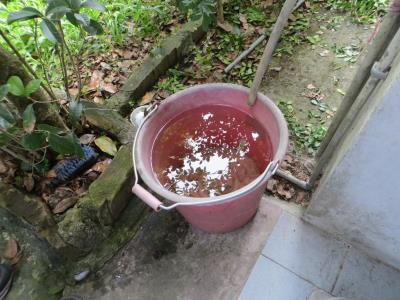bucket: (124, 80, 293, 238)
